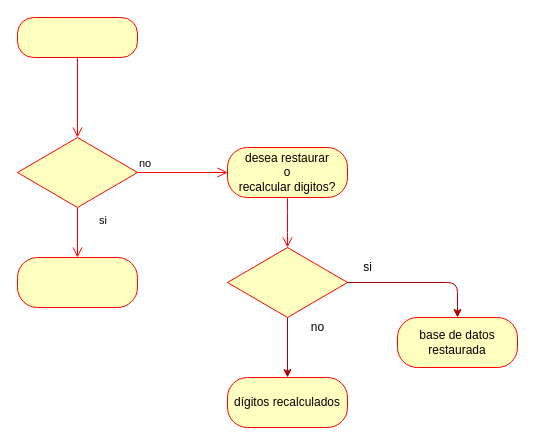
Image size: 535x445. Some labels were removed from this diagram. The centre of each missing label's shape, as x and y in pixels:
continua en secuencia login: the point at 77,282
verificacionDB: the point at 77,37
